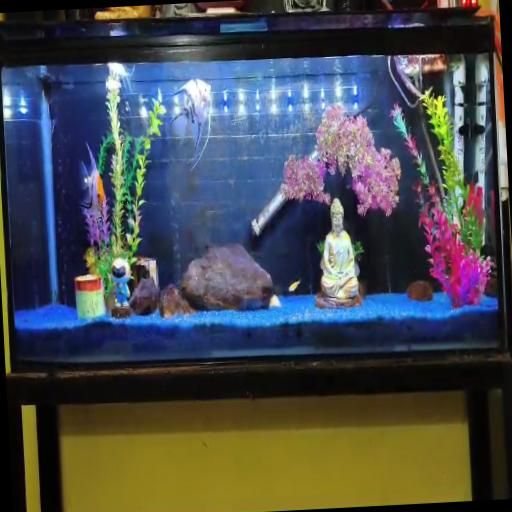Fish: (172, 80, 211, 170), (81, 143, 105, 209), (108, 62, 134, 90), (289, 280, 300, 292)
